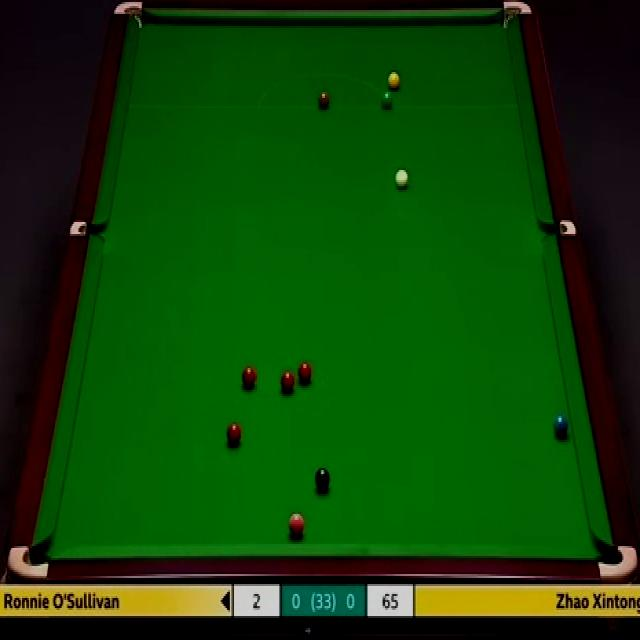pocket: (597, 542, 640, 584), (6, 543, 49, 583), (501, 0, 533, 32), (111, 0, 145, 29), (68, 221, 104, 237), (542, 220, 576, 235)
